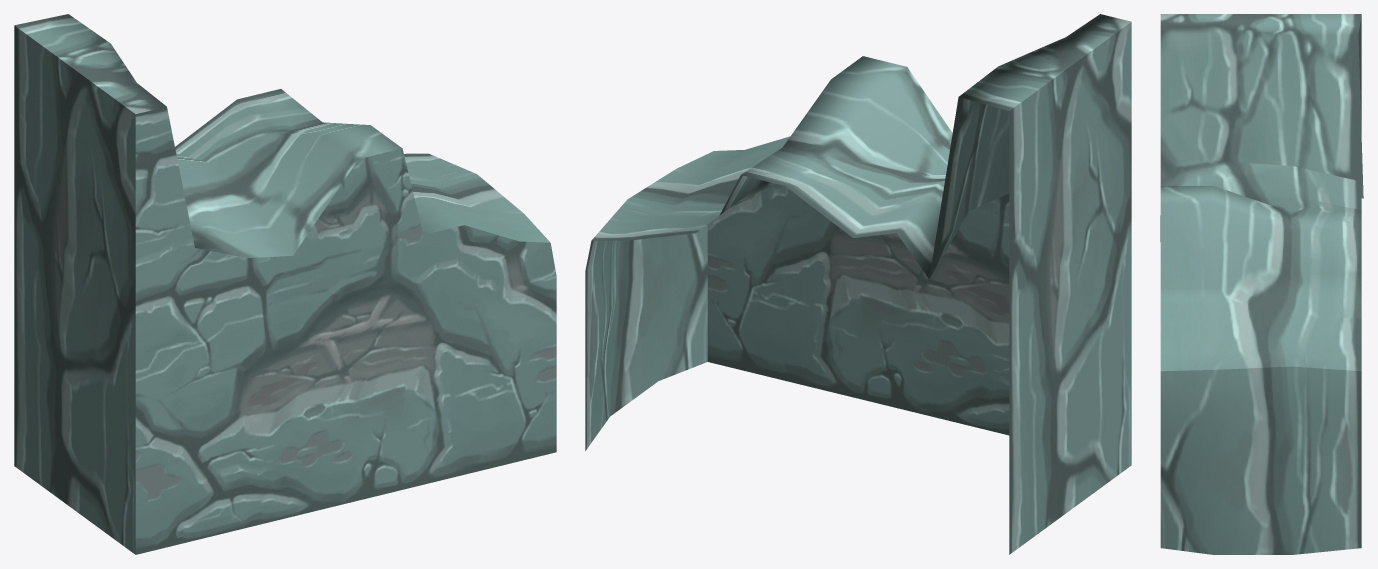
Rendered from broken_wall1.fbx.
The picture shows the model from 3 angles, left to right: view 1: azimuth 30°, elevation 25°; view 2: azimuth 150°, elevation 25°; view 3: azimuth 270°, elevation 25°; orthographic projection. The views are drawn at different scales.
Visible parts, largest first — view 1: Broken_wall1; view 2: Broken_wall1; view 3: Broken_wall1.
Part boxes in pixels (x1=…): Broken_wall1: x1=14, y1=14, x2=556, y2=554; Broken_wall1: x1=585, y1=14, x2=1131, y2=554; Broken_wall1: x1=1160, y1=14, x2=1363, y2=554.
Bounding box in the file's own units: 2.08 × 2 × 1.01.
